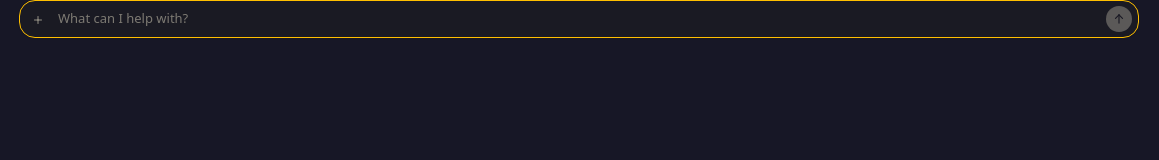
it: Composer prompt picker › typing after the slash filters; with no match Enter sends the text as typed (so '/help' is still a message)
Later steps or results of the test are not shown.
In the text box named "Message": (578, 19) [54,6,1102,32], type "/rev"
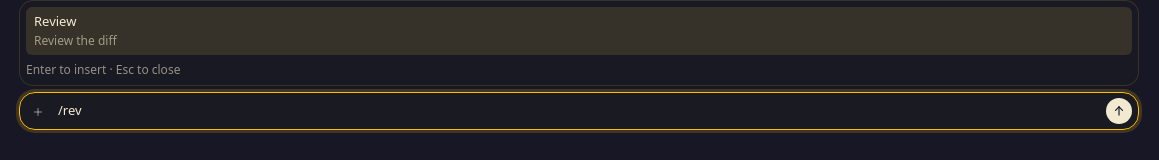
Check: the number of options is 1, box [26,7,1132,54]
